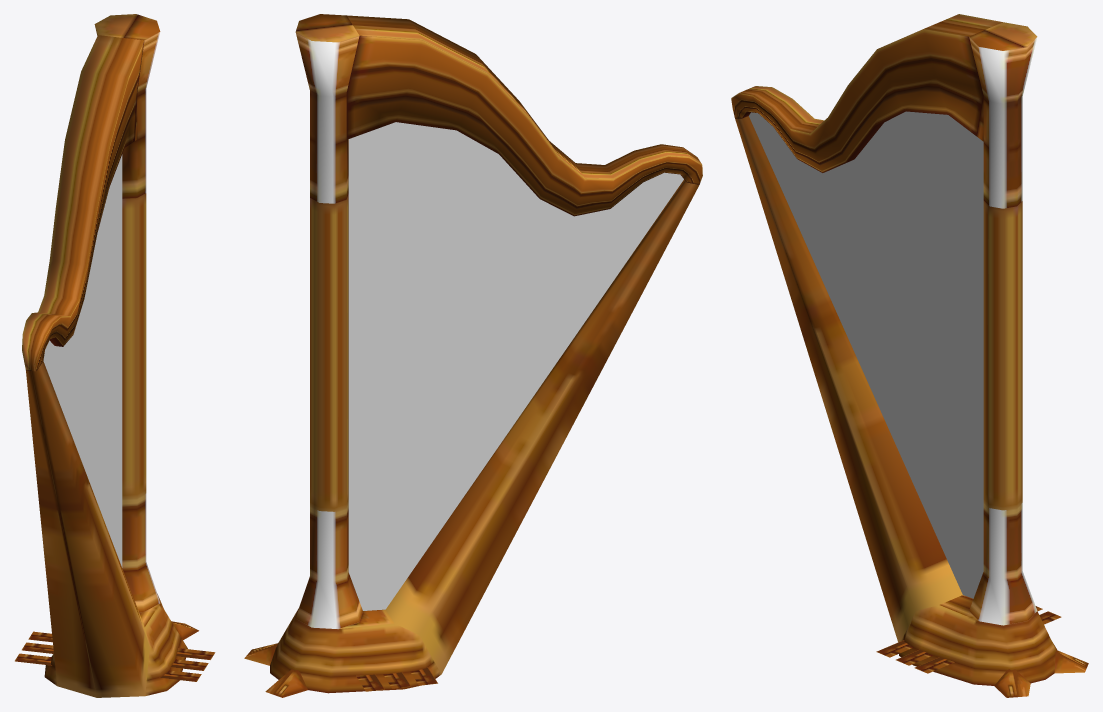
File: int_oth_harp.dae
3 views of the same model, side by side, from view 1: azimuth 30°, elevation 25°; view 2: azimuth 150°, elevation 25°; view 3: azimuth 270°, elevation 25° (orthographic). The views are drawn at different scales.
Parts seen in each view (by area): view 1: int_oth_harp; view 2: int_oth_harp; view 3: int_oth_harp.
Part boxes in pixels (<box>): int_oth_harp: <box>15,14,215,697</box>; int_oth_harp: <box>244,14,702,697</box>; int_oth_harp: <box>731,14,1088,697</box>.
Size of the model in its own units: 25.75 by 49.66 by 25.75.
Materials: 3 (3 with a texture image).
